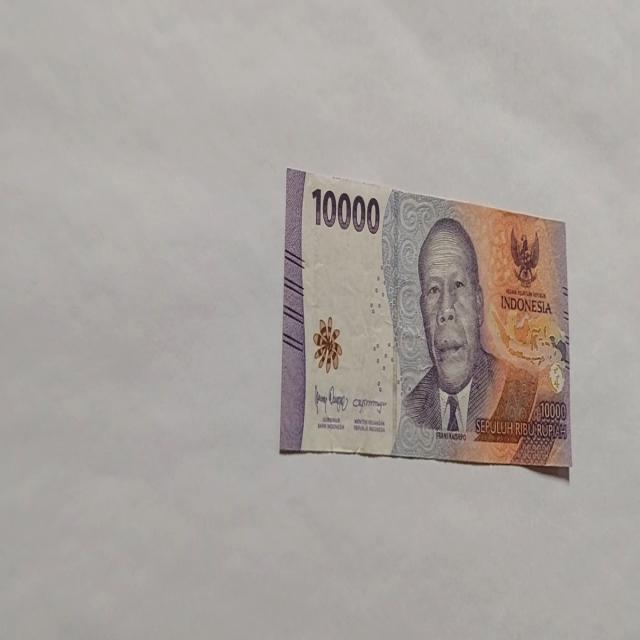sepuluh ribu rupiah: (278, 164, 572, 473), (394, 213, 539, 457)
